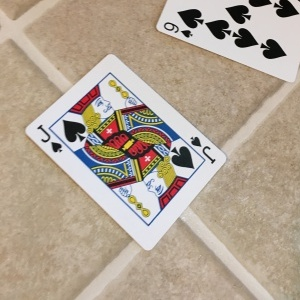card: (24, 52, 228, 248)
